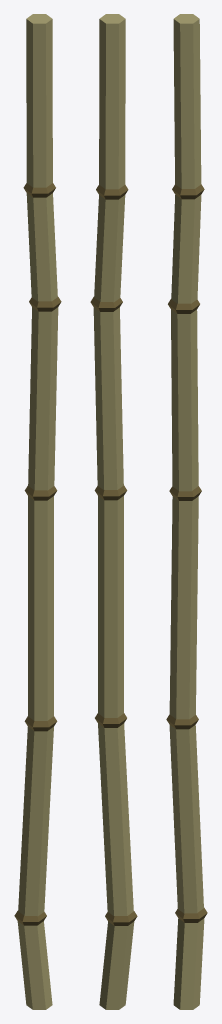
File: bamboo_pole_02.glb
3 renders of one model, left to right at view 1: azimuth 30°, elevation 25°; view 2: azimuth 210°, elevation 25°; view 3: azimuth 270°, elevation 25°, orthographic.
Visible parts, largest first — view 1: bamboo_02, bamboo_02_rings; view 2: bamboo_02, bamboo_02_rings; view 3: bamboo_02, bamboo_02_rings.
Boxes of the visible parts, x1,y1,x2,y2 form: bamboo_02: (17, 14, 58, 1009); bamboo_02_rings: (14, 183, 61, 925); bamboo_02: (93, 14, 134, 1009); bamboo_02_rings: (90, 184, 137, 925); bamboo_02: (169, 14, 204, 1009); bamboo_02_rings: (166, 184, 207, 922).
Bounding box in the file's own units: 0.0831 × 2.22 × 0.0844.
